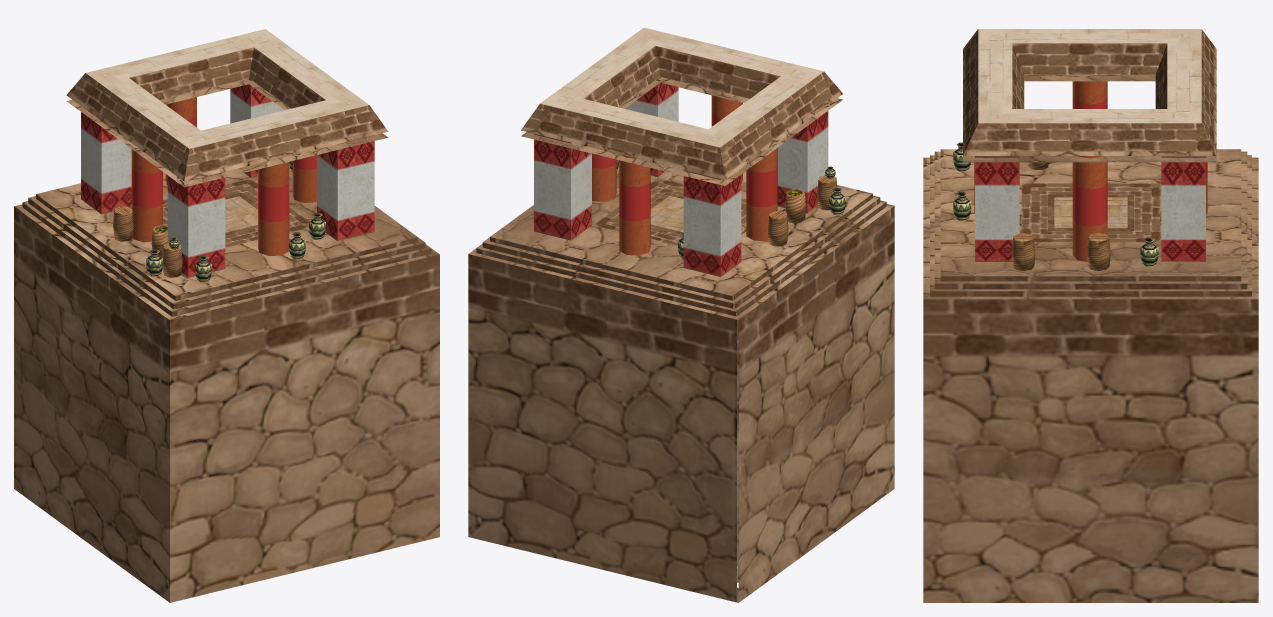
File: market.dae
3 views of the same model, side by side, from view 1: azimuth 30°, elevation 25°; view 2: azimuth 150°, elevation 25°; view 3: azimuth 270°, elevation 25° (orthographic). The views are drawn at different scales.
Parts seen in each view (by area): view 1: Market; view 2: Market; view 3: Market.
Part boxes in pixels (left/top/right/bottom): Market: left=14, top=29, right=439, bottom=602; Market: left=468, top=27, right=894, bottom=602; Market: left=923, top=29, right=1258, bottom=602.
Size of the model in its own units: 15.64 by 15.64 by 24.42.
